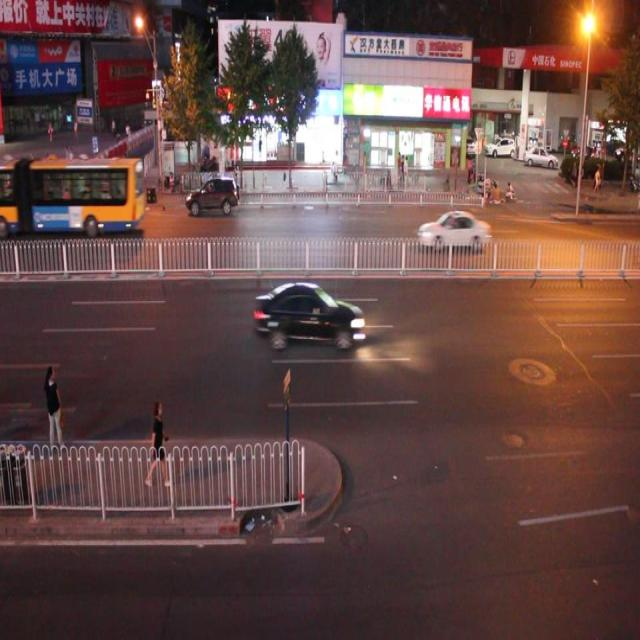car: (253, 279, 364, 348), (418, 208, 492, 252), (185, 172, 240, 222), (36, 190, 91, 228)
van: (1, 155, 145, 229)
